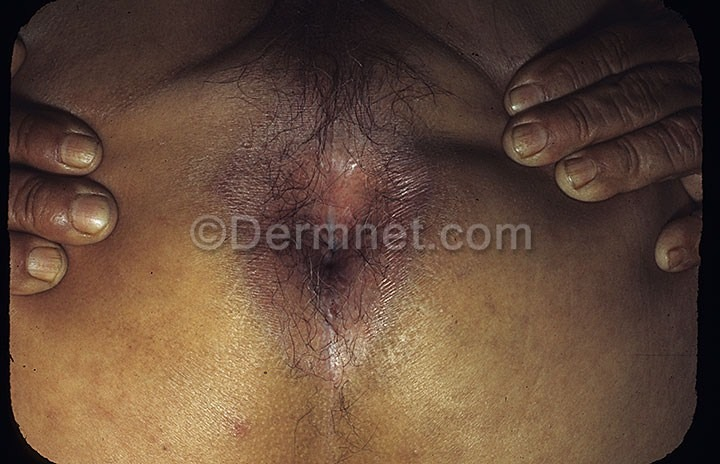Psoriasis: (259, 85, 448, 217)
